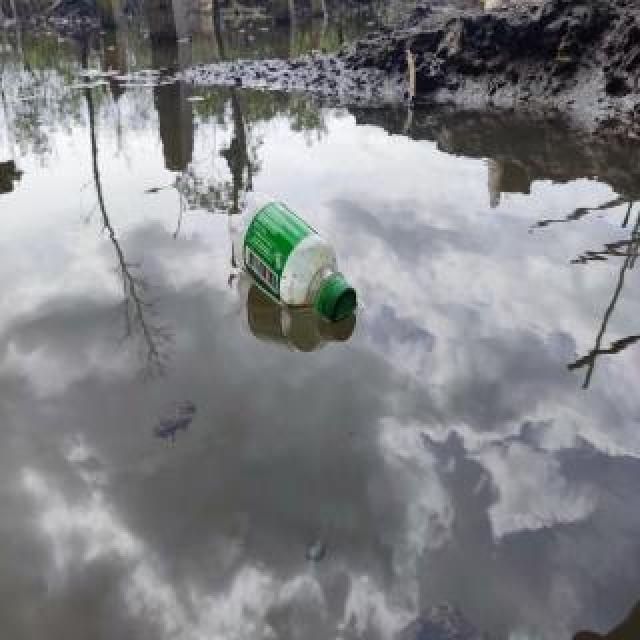bottle: (221, 182, 361, 328)
